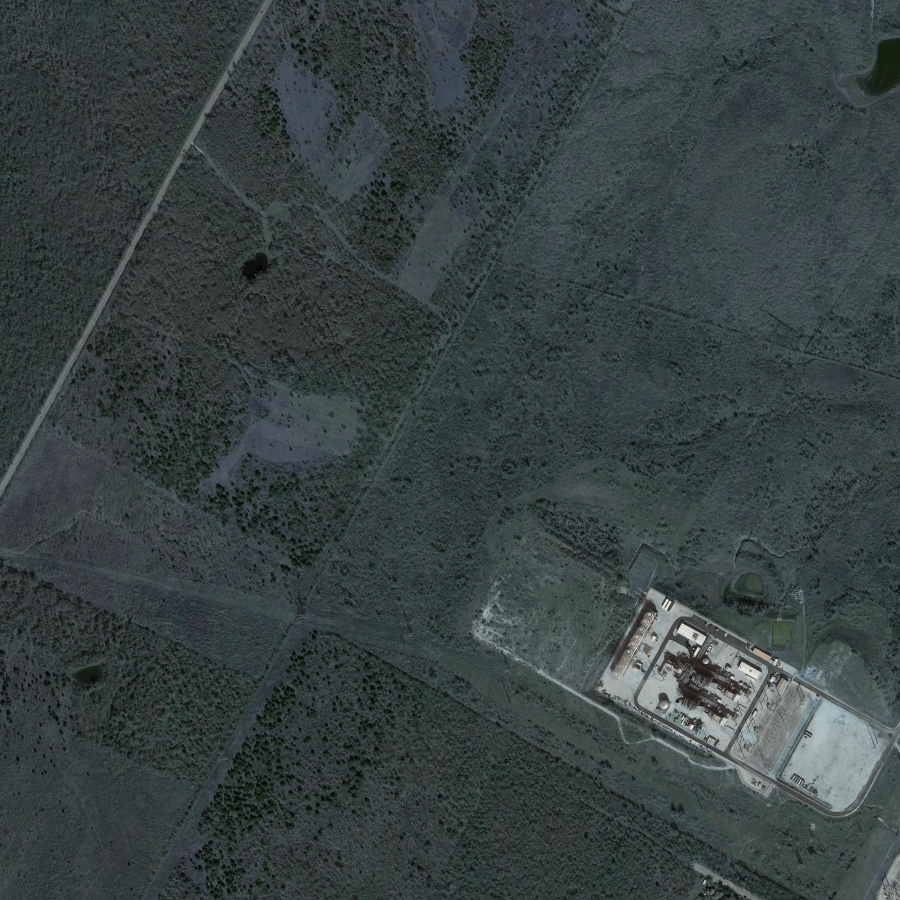PowerPlant: (601, 591, 811, 781)
